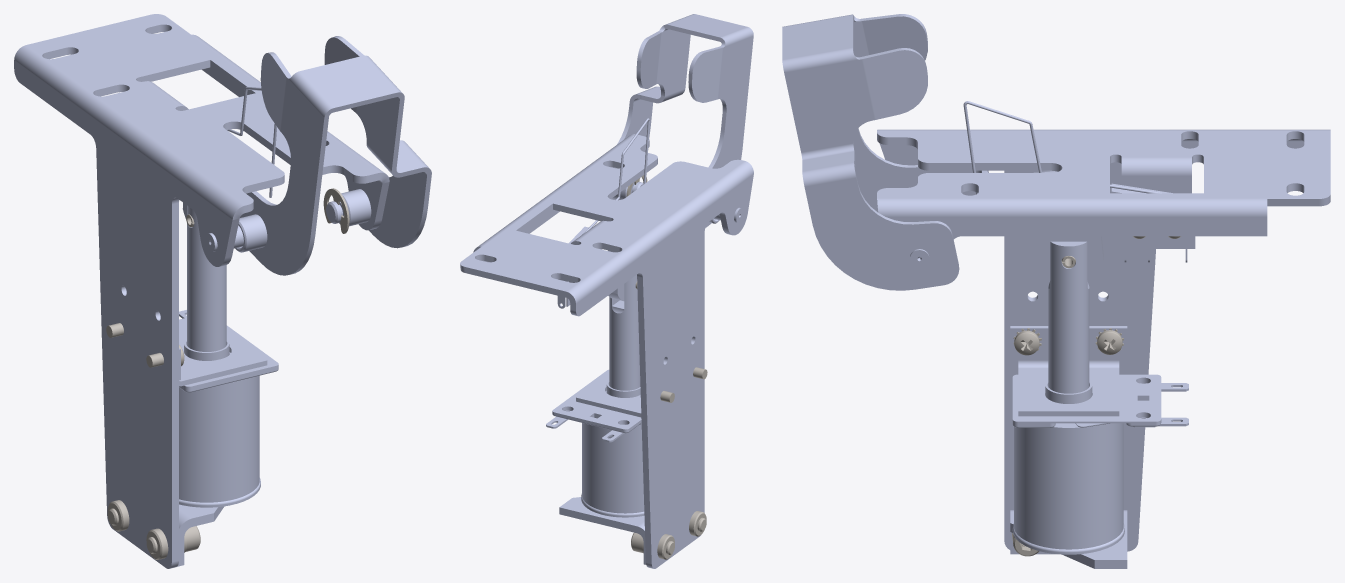
File: Kicker Assembly, Shooter Lane (A-21022-1).fbx
The picture shows the model from 3 angles, left to right: view 1: azimuth 30°, elevation 25°; view 2: azimuth 150°, elevation 25°; view 3: azimuth 270°, elevation 25°; orthographic projection. The views are drawn at different scales.
Visible parts, largest first — view 1: 04-10211.5 Coil Mounting Bracket, 04-10210.4 Kicker Crank, Coil SG-23 800, Flipper Plunger WPC, Coil Mounting Bracket 01-8413, Coil Stop 04-10461, Kicker Crank Bushing 1, Coil Mounting Bracket Bushing 1, e-external retaining ring_ai; view 2: 04-10211.5 Coil Mounting Bracket, 04-10210.4 Kicker Crank, Coil SG-23 800, Flipper Plunger WPC, Coil Stop 04-10461, Coil Mounting Bracket 01-8413, Switch Follower; view 3: 04-10211.5 Coil Mounting Bracket, 04-10210.4 Kicker Crank, Coil SG-23 800, Flipper Plunger WPC, Coil Mounting Bracket 01-8413, Coil Stop 04-10461, Flipper Plunger Link WPC, Switch Follower, 01-8600 Insulator.
Part boxes in pixels (box(x1,y1,x2,y2)): 04-10211.5 Coil Mounting Bracket: box(14, 14, 389, 568); 04-10210.4 Kicker Crank: box(240, 36, 431, 275); Coil SG-23 800: box(179, 310, 278, 507); Flipper Plunger WPC: box(187, 205, 226, 351); Coil Mounting Bracket 01-8413: box(179, 331, 267, 386); Coil Stop 04-10461: box(177, 504, 224, 566); Kicker Crank Bushing 1: box(235, 214, 267, 252); Coil Mounting Bracket Bushing 1: box(339, 189, 371, 226); e-external retaining ring_ai: box(323, 188, 349, 233); 04-10211.5 Coil Mounting Bracket: box(460, 134, 753, 568); 04-10210.4 Kicker Crank: box(617, 14, 753, 227); Coil SG-23 800: box(546, 369, 644, 517); Flipper Plunger WPC: box(609, 275, 640, 390); Coil Stop 04-10461: box(559, 497, 646, 564); Coil Mounting Bracket 01-8413: box(576, 373, 641, 417); Switch Follower: box(568, 118, 649, 243); 04-10211.5 Coil Mounting Bracket: box(877, 129, 1330, 551); 04-10210.4 Kicker Crank: box(782, 14, 1057, 290); Coil SG-23 800: box(1012, 374, 1188, 554); Flipper Plunger WPC: box(1048, 241, 1089, 393); Coil Mounting Bracket 01-8413: box(1010, 326, 1127, 416); Coil Stop 04-10461: box(1010, 510, 1127, 568); Flipper Plunger Link WPC: box(1032, 170, 1103, 276); Switch Follower: box(963, 101, 1172, 194); 01-8600 Insulator: box(1118, 236, 1195, 248).
Size of the model in its own units: 5.72 by 16.73 by 14.85.
